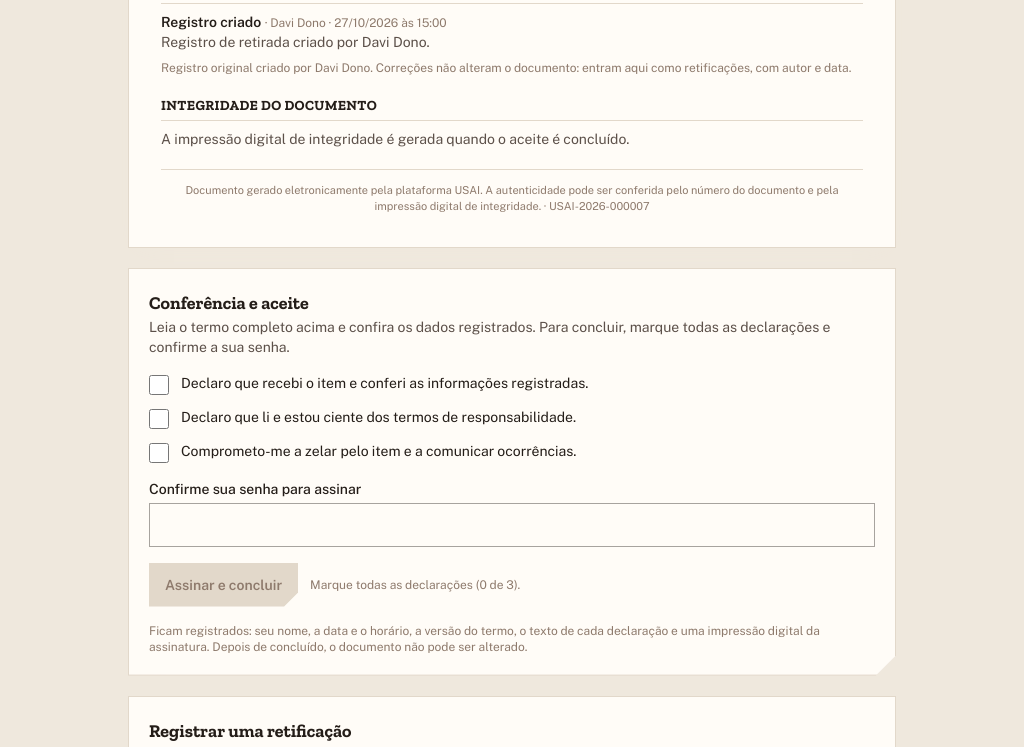
MovimentacaoPage — aceite obrigatório › senha errada: mostra o erro, limpa a senha e não conclui
The image size is (1024, 747).
(page scrolled)
Step 1. Click the 1st checkbox → (159, 384), box [149, 374, 169, 394]
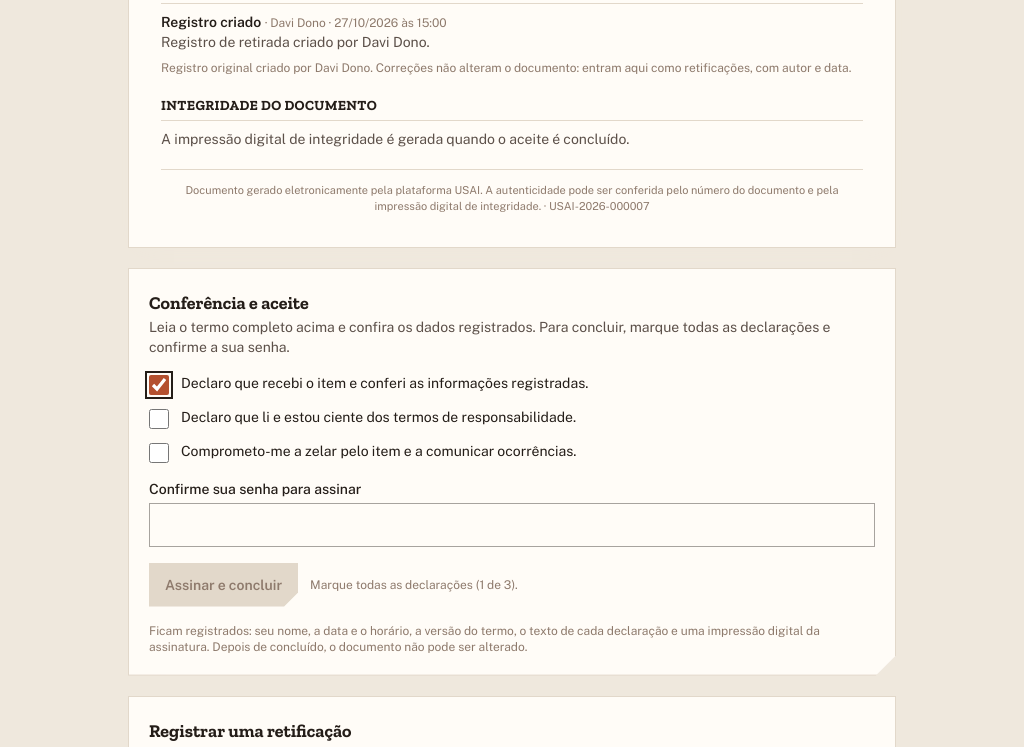
Step 2. Click the 2nd checkbox → (159, 418), box [149, 408, 169, 428]
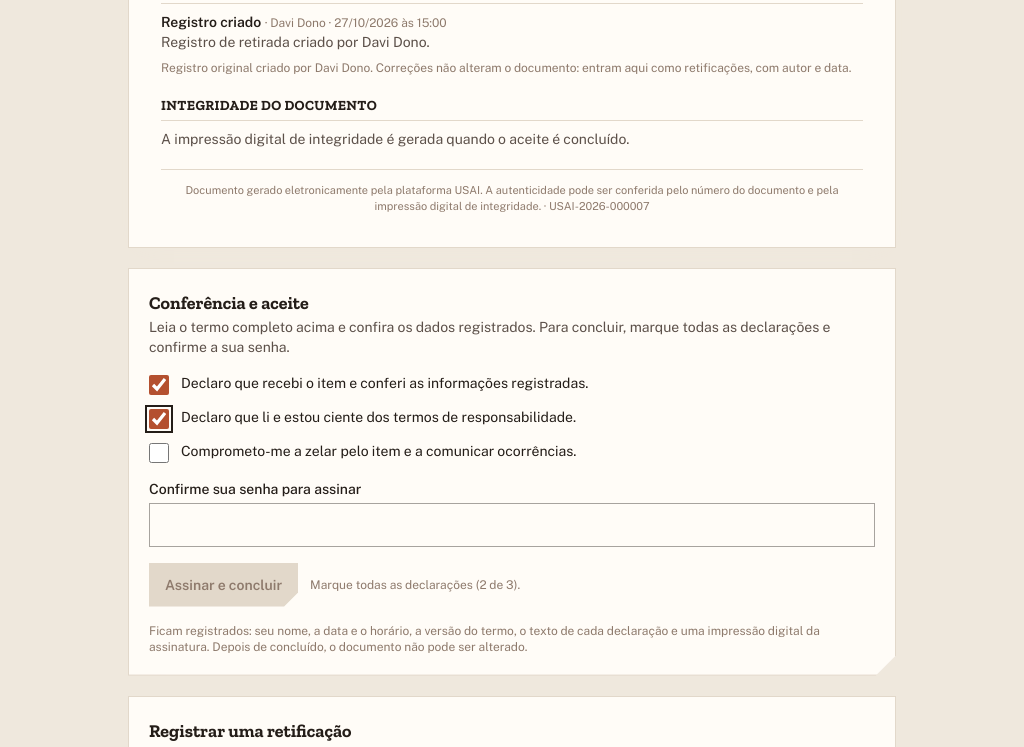
Step 3. Click the checkbox labelled "Comprometo-me a zelar pelo item e a comunicar ocorrências." → (159, 452), box [149, 442, 169, 462]
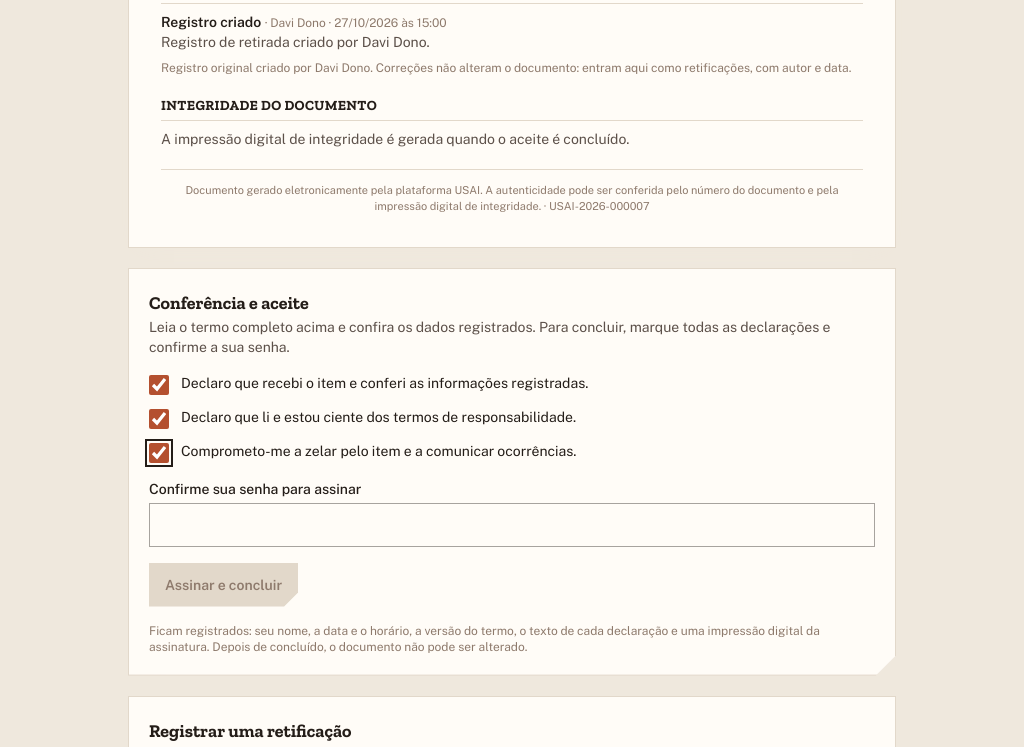
Step 4. Type "errada" into the password field labelled "Confirme sua senha para assinar" → (512, 524), box [149, 502, 875, 546]
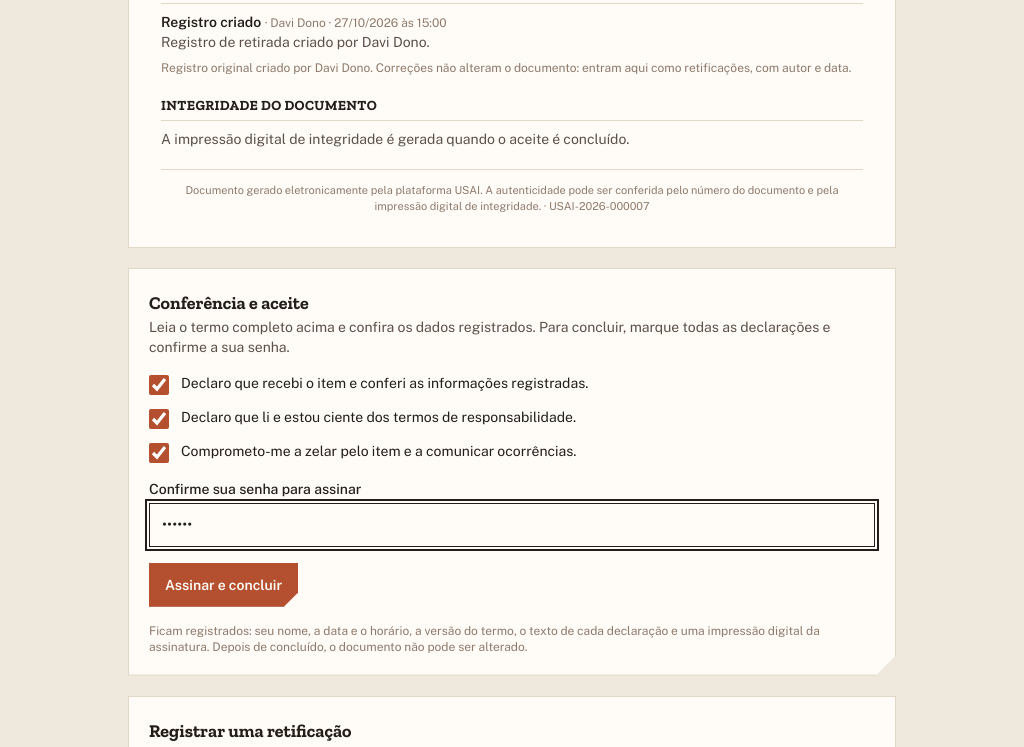
Step 5. Click the button "Assinar e concluir" → (224, 584), box [149, 562, 298, 606]
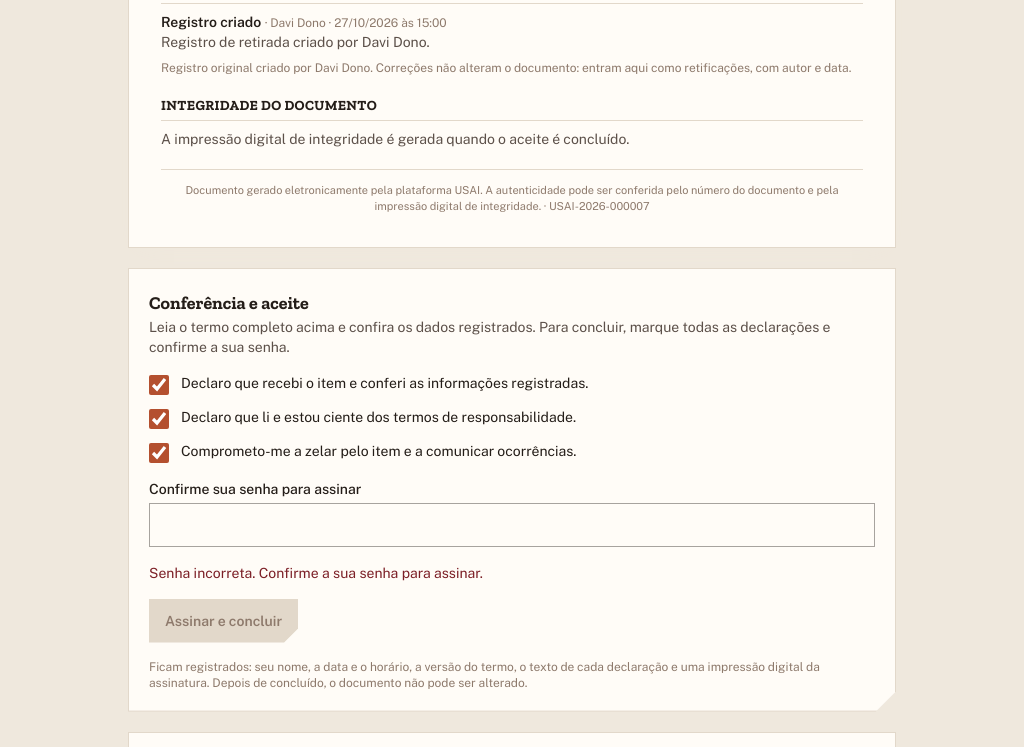
Expected: the message shows "Senha incorreta", [149, 564, 483, 580]
Expected: the password field labelled "Confirme sua senha para assinar" is empty, [149, 502, 875, 546]
Expected: the button "Assinar e concluir" is disabled, [149, 598, 298, 642]
